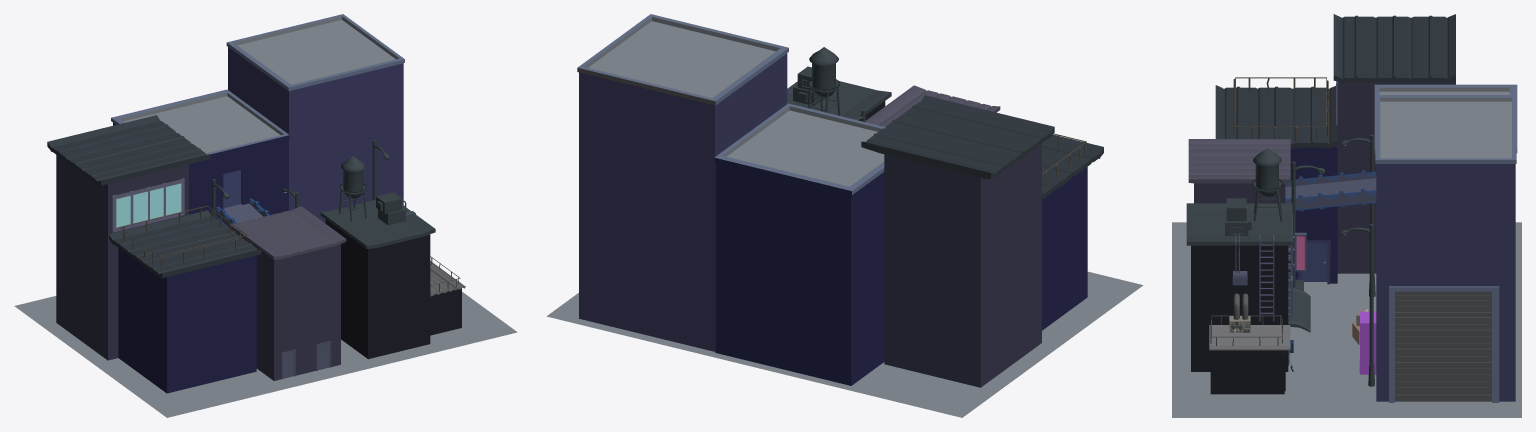
File: CyberPunk Alley.fbx
3 renders of one model, left to right at view 1: azimuth 30°, elevation 25°; view 2: azimuth 150°, elevation 25°; view 3: azimuth 270°, elevation 25°, orthographic. The views are drawn at different scales.
Visible parts, largest first — view 1: Building_with_vending_machine:pasted__pCube6, Building_with_alley_door:Building_1, Building_with_dumpstser:building, Store_Front:Store, Building_with_alley_door:Building2, Building_with_vending_machine:polySurface2, pPlane1, Building_with_alley_door:roof2, Building_with_alley_door:roof1, Building_with_alley_door:window, Garage_building:Garage_Building_w__Roof, Building_with_dumpstser:bridge (+1 smaller); view 2: Building_with_vending_machine:pasted__pCube6, Building_with_vending_machine:polySurface2, Building_with_alley_door:Building2, pPlane1, Building_with_alley_door:roof2, Building_with_alley_door:Building_1, Building_with_alley_door:roof1, Store_Front:Store, Building_with_dumpstser:building, Store_Front:Power_tank_base; view 3: Building_with_vending_machine:pasted__pCube6, pPlane1, Store_Front:Store, Building_with_alley_door:roof2, Building_with_alley_door:roof1, Building_with_alley_door:Building2, Building_with_dumpstser:building, Garage_building:Garage_Building_w__Roof, Building_with_alley_door:Building_1, Building_with_dumpstser:bridge, Building_with_vending_machine:polySurface2, Store_Front:Power_tank_base (+8 smaller).
Boxes of the visible parts, x1,y1,x2,y2 form: Building_with_vending_machine:pasted__pCube6: (226, 14, 404, 223); Building_with_alley_door:Building_1: (118, 248, 256, 393); Building_with_dumpstser:building: (229, 206, 346, 380); Store_Front:Store: (320, 200, 435, 359); Building_with_alley_door:Building2: (56, 155, 188, 360); Building_with_vending_machine:polySurface2: (111, 89, 289, 219); pPlane1: (14, 292, 517, 417); Building_with_alley_door:roof2: (47, 115, 210, 185); Building_with_alley_door:roof1: (109, 210, 261, 278); Building_with_alley_door:window: (112, 178, 184, 232); Garage_building:Garage_Building_w__Roof: (430, 261, 465, 335); Building_with_dumpstser:bridge: (215, 198, 270, 230); Building_with_vending_machine:pasted__pCube6: (577, 14, 788, 351); Building_with_vending_machine:polySurface2: (714, 103, 885, 385); Building_with_alley_door:Building2: (884, 143, 1041, 387); pPlane1: (546, 271, 1143, 417); Building_with_alley_door:roof2: (861, 95, 1054, 178); Building_with_alley_door:Building_1: (1042, 167, 1087, 330); Building_with_alley_door:roof1: (1042, 134, 1103, 198); Store_Front:Store: (787, 80, 891, 120); Building_with_dumpstser:building: (865, 85, 1000, 126); Store_Front:Power_tank_base: (808, 47, 839, 97); Building_with_vending_machine:pasted__pCube6: (1375, 95, 1516, 402); pPlane1: (1172, 222, 1521, 417); Store_Front:Store: (1186, 203, 1292, 371); Building_with_alley_door:roof2: (1333, 14, 1455, 83); Building_with_alley_door:roof1: (1215, 85, 1337, 148); Building_with_alley_door:Building2: (1337, 80, 1455, 273); Building_with_dumpstser:building: (1188, 139, 1290, 203); Garage_building:Garage_Building_w__Roof: (1209, 325, 1290, 394); Building_with_alley_door:Building_1: (1288, 146, 1337, 284); Building_with_dumpstser:bridge: (1285, 170, 1376, 211); Building_with_vending_machine:polySurface2: (1374, 84, 1517, 152); Store_Front:Power_tank_base: (1252, 148, 1282, 197).
Size of the model in its own units: 63.11 by 36.99 by 47.66.
Materials: 19 (19 with a texture image).
